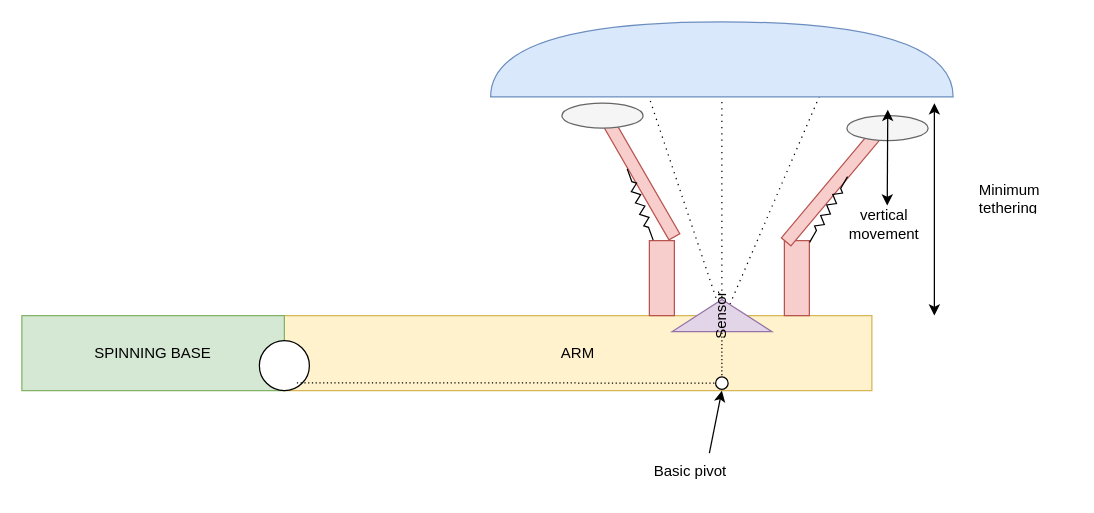
This 1094x513 diagram has some shape labels left out. The shapes that lost their labels are listed below. From the top down, each one's centre as x and y in pixels, then its label:
At (721,59): "Wing".
At (283,365): "Pulley".
